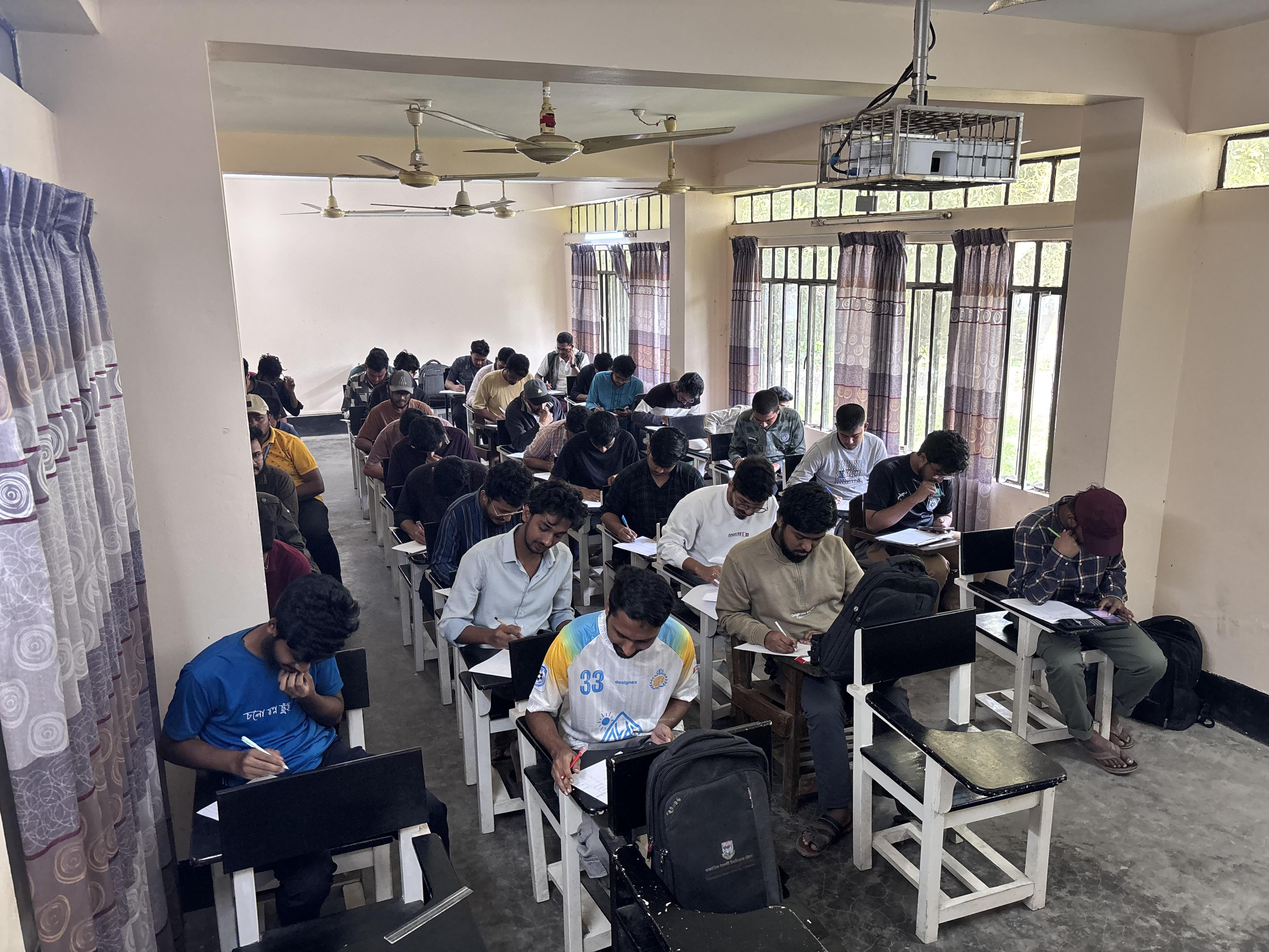no_cheating: (188, 575, 362, 798), (548, 571, 684, 822), (749, 489, 849, 656), (509, 481, 583, 636), (617, 428, 696, 552), (240, 395, 325, 504), (700, 456, 781, 548), (559, 408, 629, 498), (808, 401, 880, 488), (735, 386, 805, 474), (382, 407, 464, 476), (404, 451, 475, 528), (473, 463, 539, 536), (650, 368, 710, 443), (598, 355, 650, 425), (371, 367, 428, 426), (349, 350, 403, 407), (479, 356, 531, 415), (513, 380, 554, 446), (547, 331, 586, 381), (453, 333, 492, 378)
suspicious_moving: (254, 346, 307, 411)
using_phone: (1017, 477, 1145, 661), (881, 417, 973, 551)
